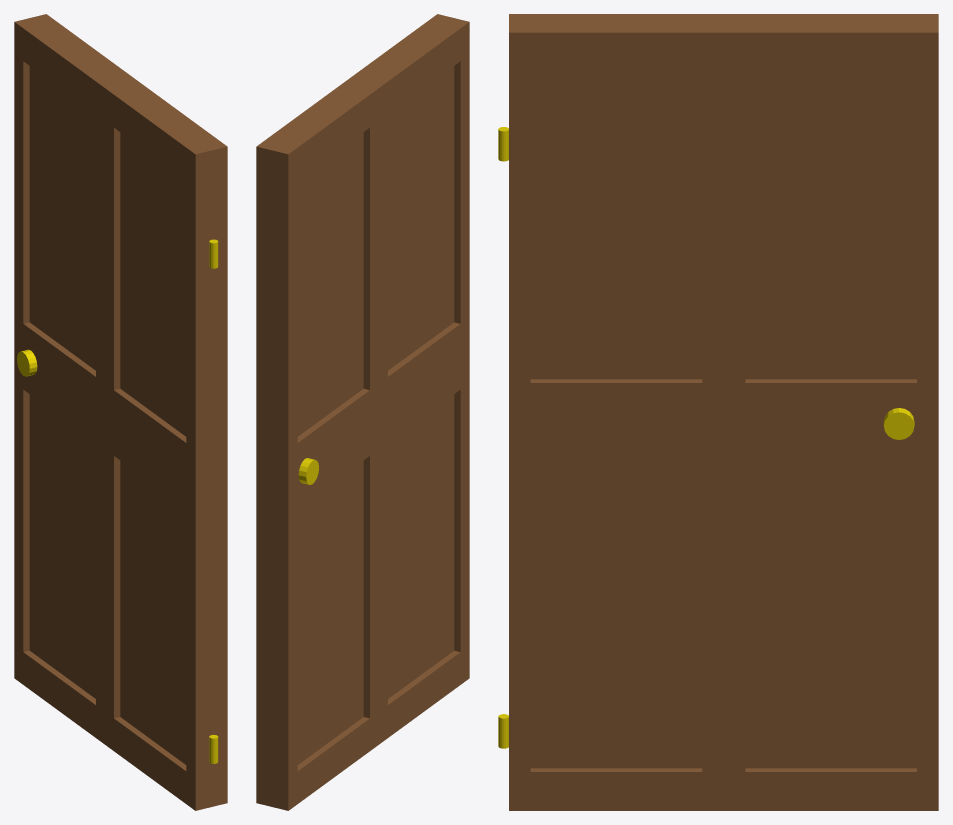
The model's file is door.fbx.
3 renders of one model, left to right at view 1: azimuth 30°, elevation 25°; view 2: azimuth 150°, elevation 25°; view 3: azimuth 270°, elevation 25°, orthographic. The views are drawn at different scales.
Visible parts, largest first — view 1: Cube; view 2: Cube; view 3: Cube.
Boxes of the visible parts, box(x1,y1,x2,y2) form: Cube: box(14, 14, 227, 810); Cube: box(256, 14, 469, 810); Cube: box(498, 14, 938, 810).
Bounding box in the file's own units: 30.17 × 400 × 205.
